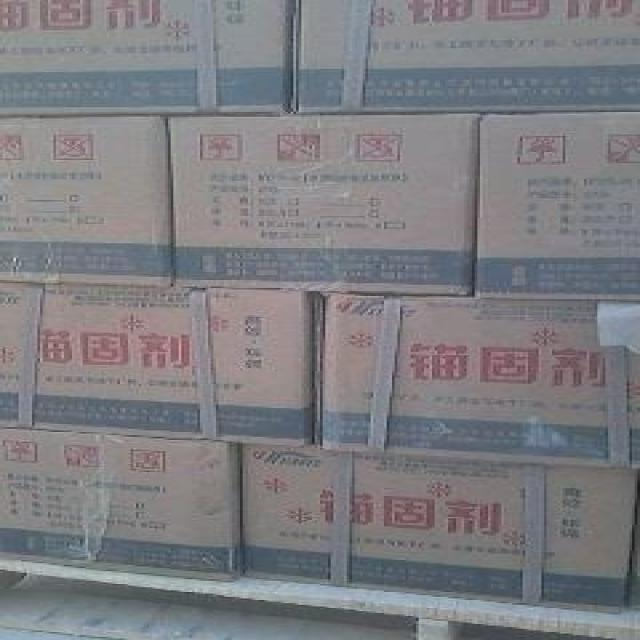box: (241, 442, 637, 614), (165, 114, 483, 295), (313, 292, 637, 469), (0, 281, 314, 446), (292, 0, 637, 115), (0, 428, 243, 581), (0, 0, 294, 117), (472, 112, 637, 300), (0, 115, 174, 287)
